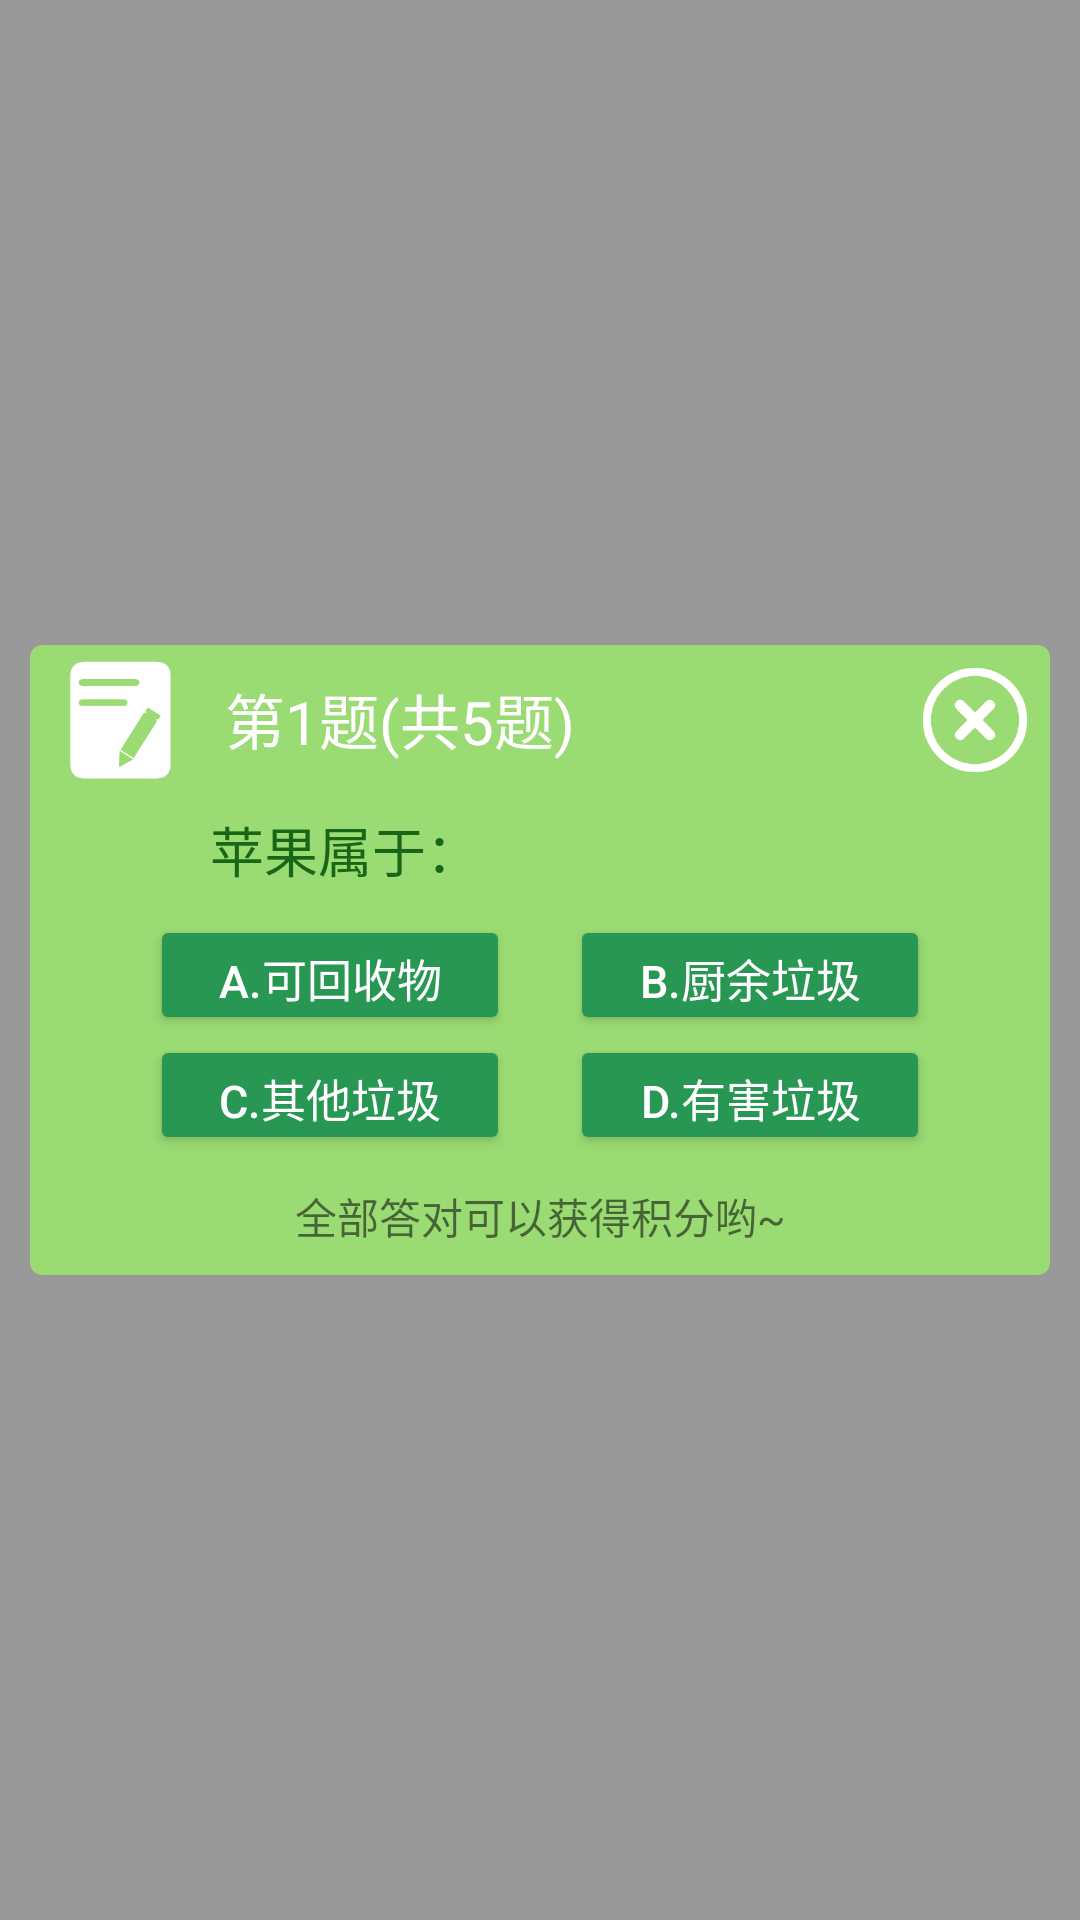

Locate icon controls on the screen. Image size 1080px×1920px, boxes as (x1,y1,x2,y2).
delete: (923,668,1027,772)
